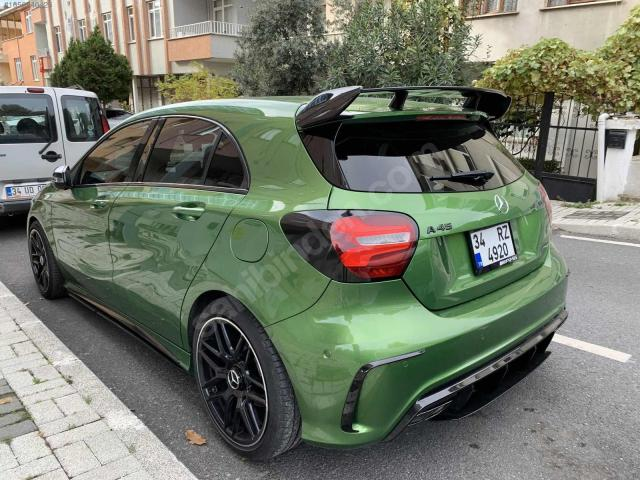plaka: (470, 222, 517, 273)
